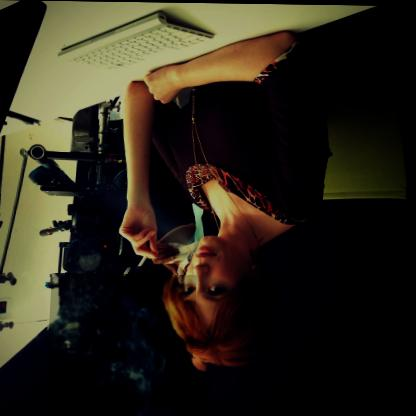smoke: (52, 273, 194, 409)
